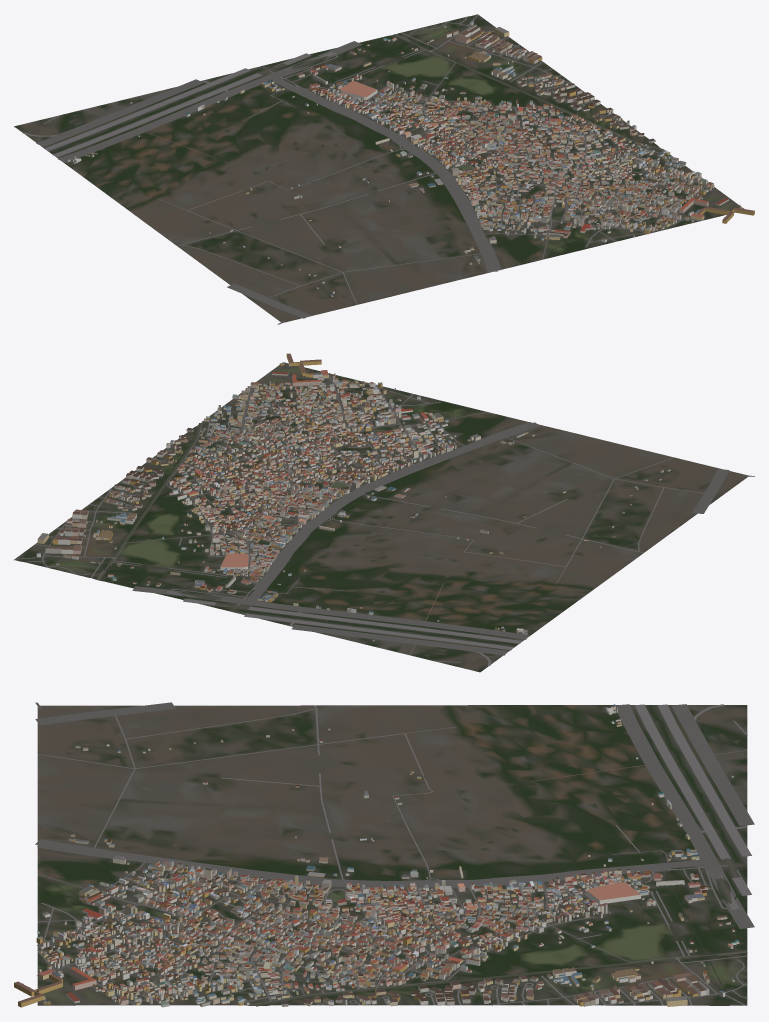
3 renders of one model, top to bottom at view 1: azimuth 30°, elevation 25°; view 2: azimuth 150°, elevation 25°; view 3: azimuth 270°, elevation 25°, orthographic. The views are drawn at different scales.
Parts seen in each view (by area): view 1: ground, buildings, roads, water; view 2: ground, buildings, roads, water; view 3: ground, buildings, roads, water.
Part boxes in pixels (x1,y1,x2,y2): ground: (14, 14, 743, 322); buildings: (67, 21, 754, 296); roads: (22, 14, 705, 324); water: (275, 15, 664, 150); ground: (14, 362, 749, 672); buildings: (36, 353, 670, 641); roads: (15, 373, 754, 665); water: (20, 423, 284, 593); ground: (37, 705, 747, 1005); buildings: (14, 704, 739, 1007); roads: (35, 702, 754, 1005); water: (255, 853, 747, 1006).
Bounding box in the file's own units: 1424 × 25.16 × 1464.
